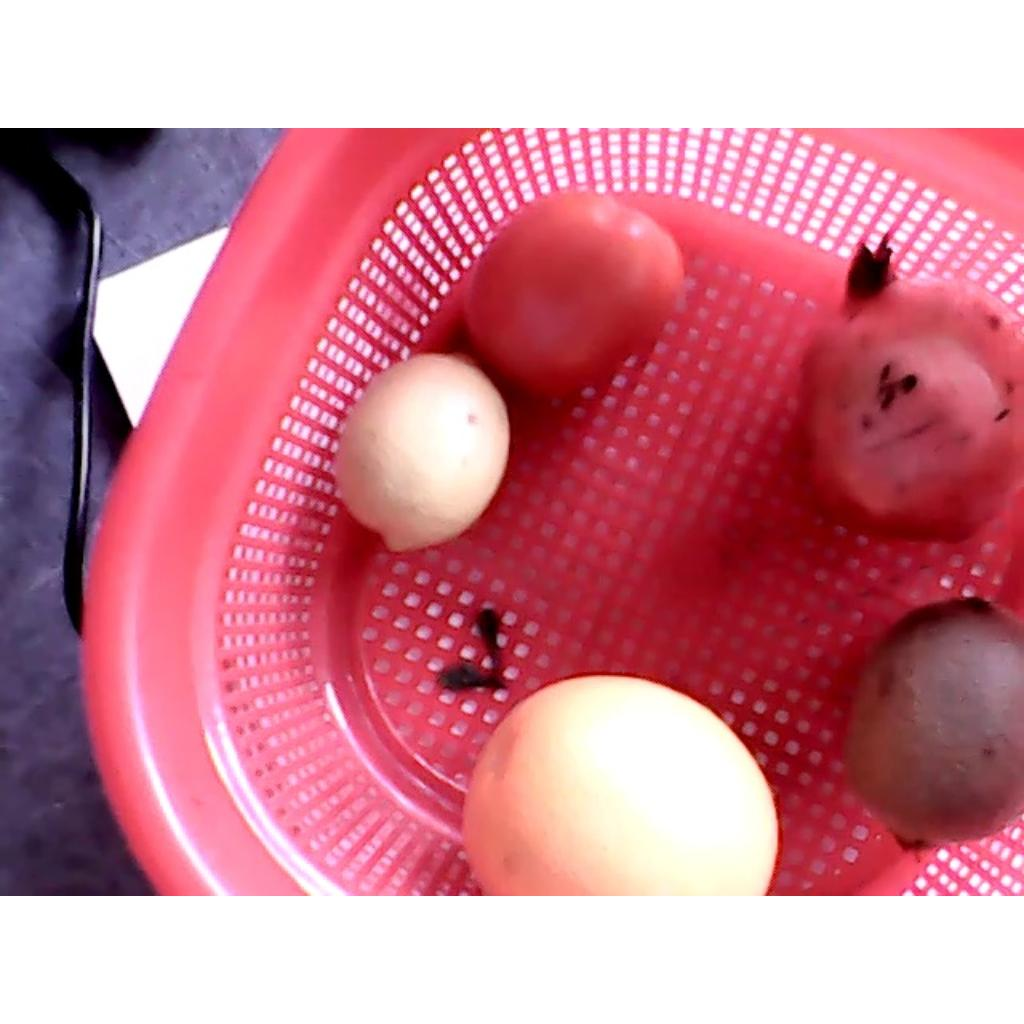kiwi: (843, 597, 1020, 854)
lemon: (331, 353, 510, 552)
orange: (461, 675, 780, 893)
pomegranate: (796, 236, 1022, 542)
tomato: (464, 191, 685, 395)
